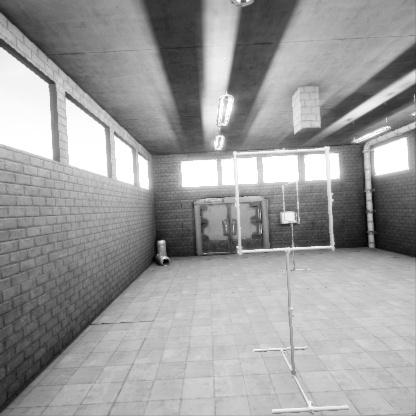gate: (235, 168, 337, 269), (282, 194, 299, 237)
